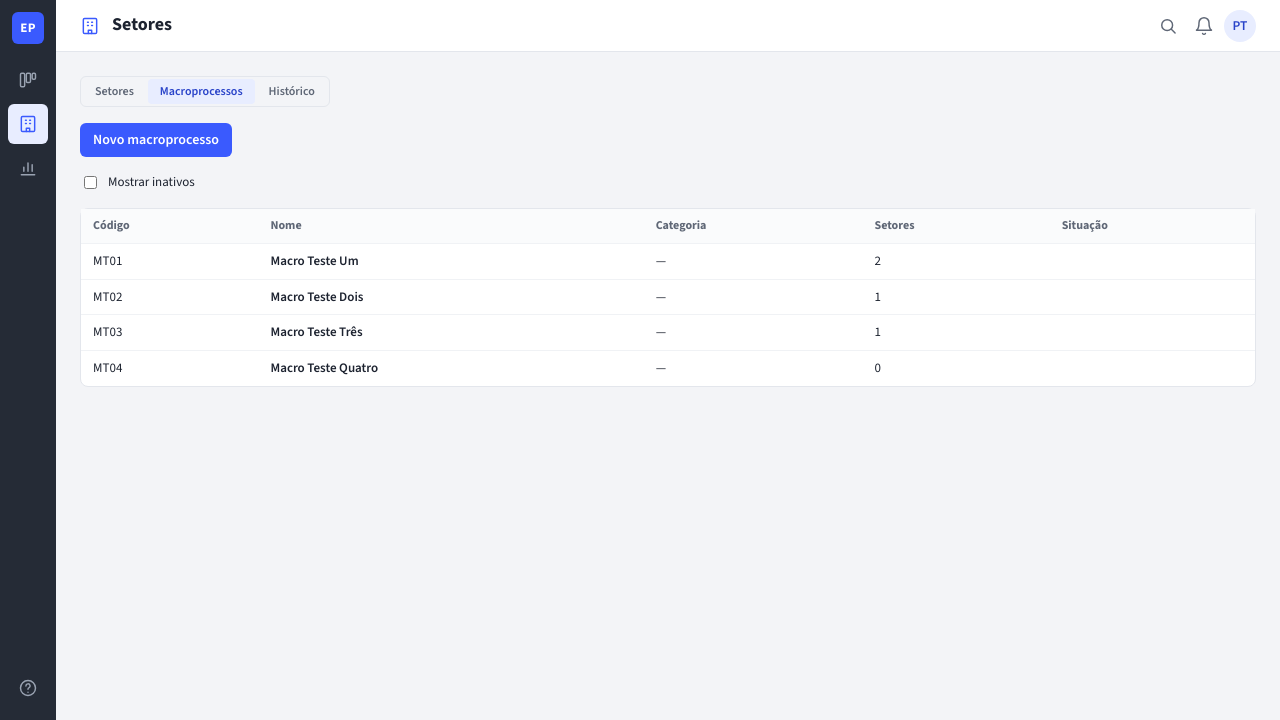
Test: macroprocesso sem setores: a janela começa pelo histórico
Click the cell "Macro Teste Quatro" at (451,369), box [258,351,644,386]
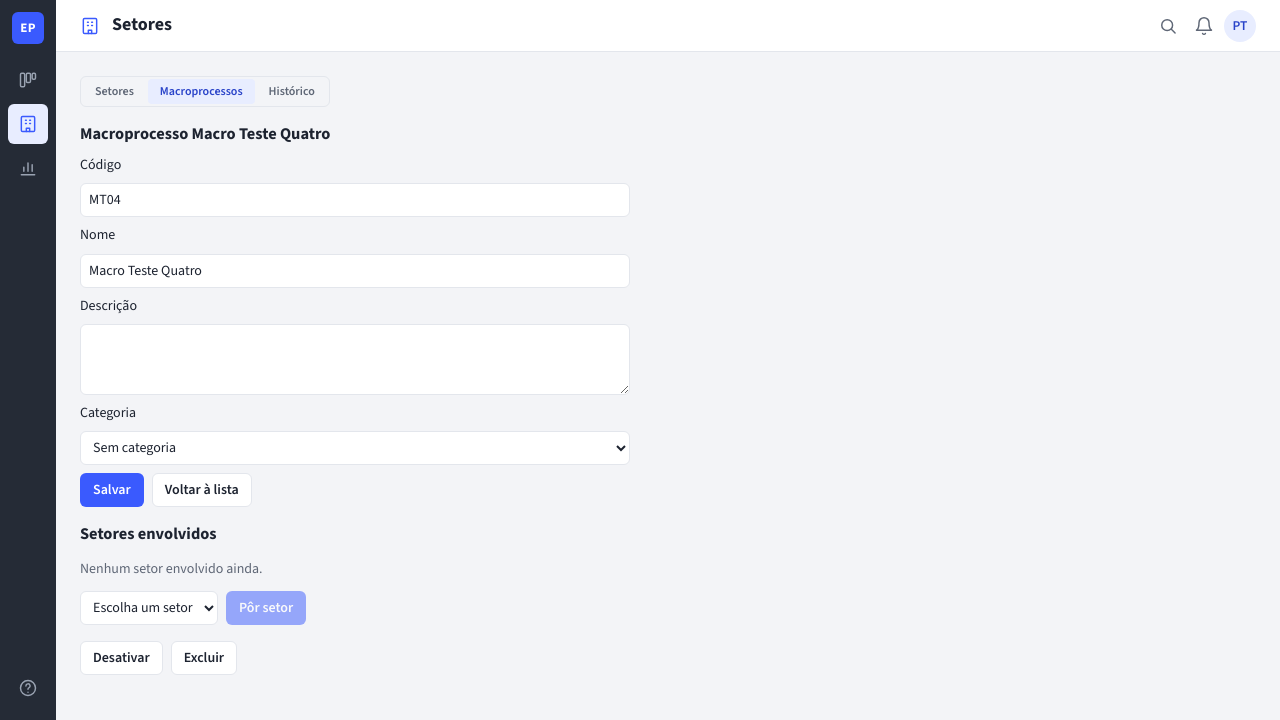
Click the button "Excluir" at (204,658), box [171,641,237,675]
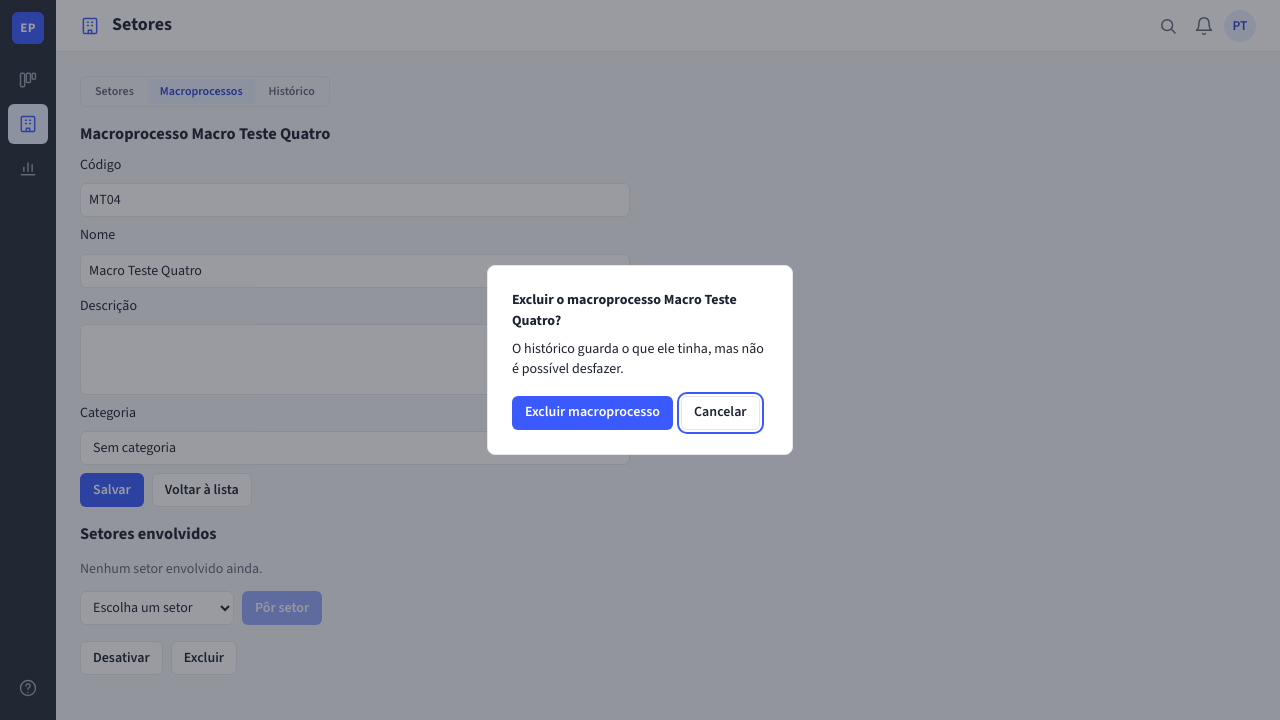
Expected: the text "O histórico guarda o que ele tinha, mas não é possível desfazer." is shown, [512,339,768,380]
